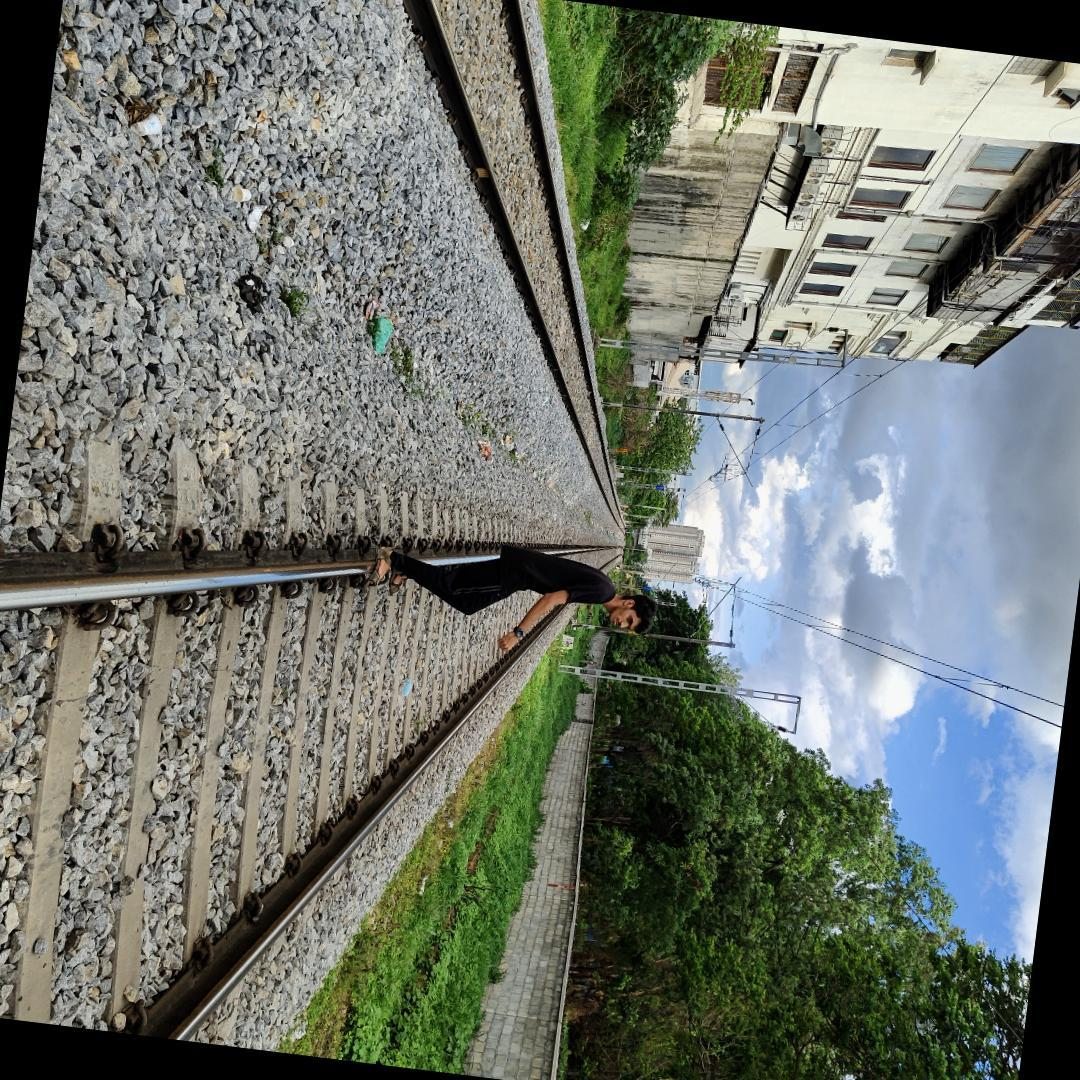standing: (357, 520, 663, 670)
